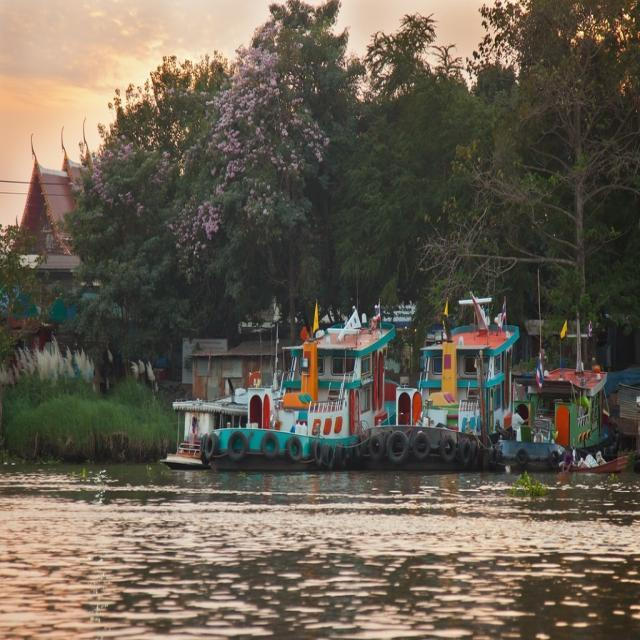Hyacinth: (511, 467, 549, 506)
boat: (203, 321, 398, 460), (388, 321, 518, 467), (516, 360, 610, 468), (562, 457, 631, 474)
